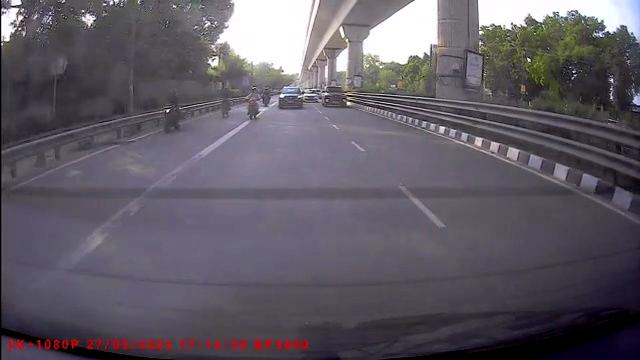motorcycle_with_helmet: (246, 85, 261, 120)
